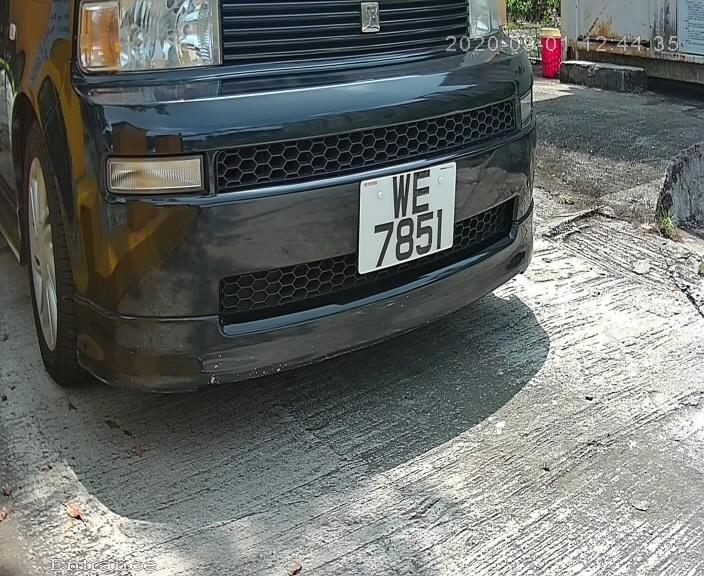License Plate: (349, 152, 466, 283)
